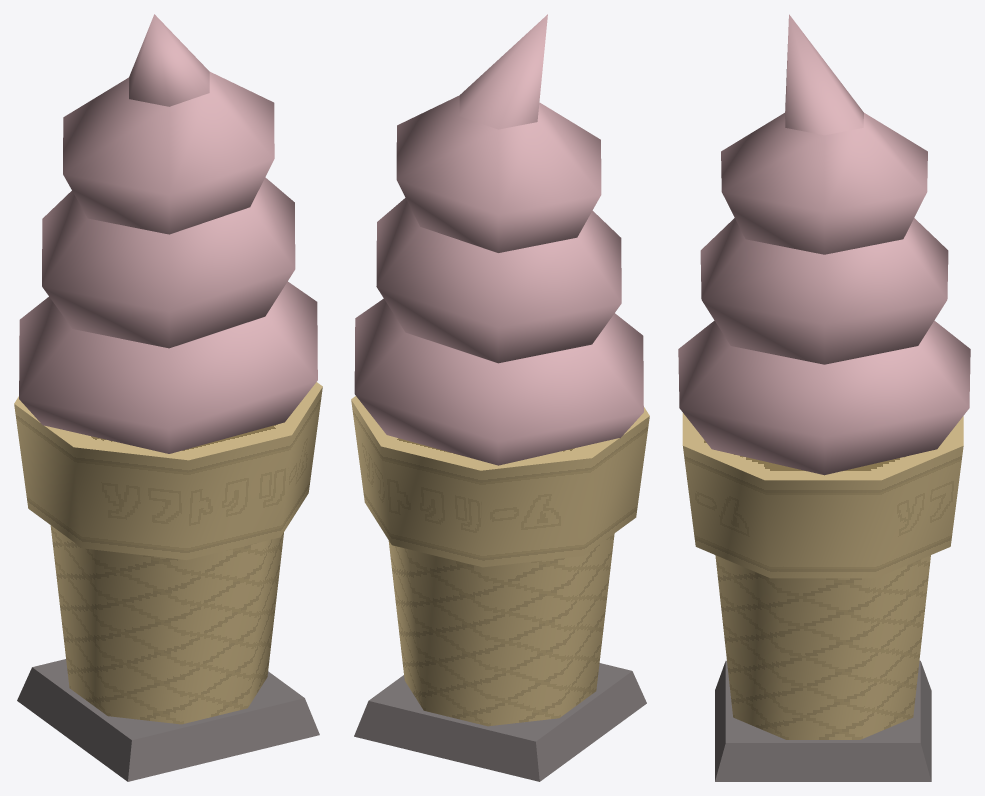
The model's file is 027c_Strawberry_Cone.glb.
3 views of the same model, side by side, from view 1: azimuth 30°, elevation 25°; view 2: azimuth 150°, elevation 25°; view 3: azimuth 270°, elevation 25° (orthographic). The views are drawn at different scales.
Parts seen in each view (by area): view 1: part_0; view 2: part_0; view 3: part_0.
Part boxes in pixels (x1,y1,x2,y2): part_0: (14,14,322,781); part_0: (351,14,649,781); part_0: (678,14,970,781).
Size of the model in its own units: 0.4424 by 1.03 by 0.3846.
Materials: 1 (1 with a texture image).
